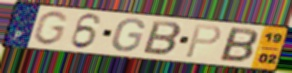6: (69, 12, 103, 51)
B: (217, 26, 260, 65), (141, 19, 184, 57)
G: (31, 10, 71, 47), (110, 18, 147, 54)
P: (183, 23, 224, 60)
